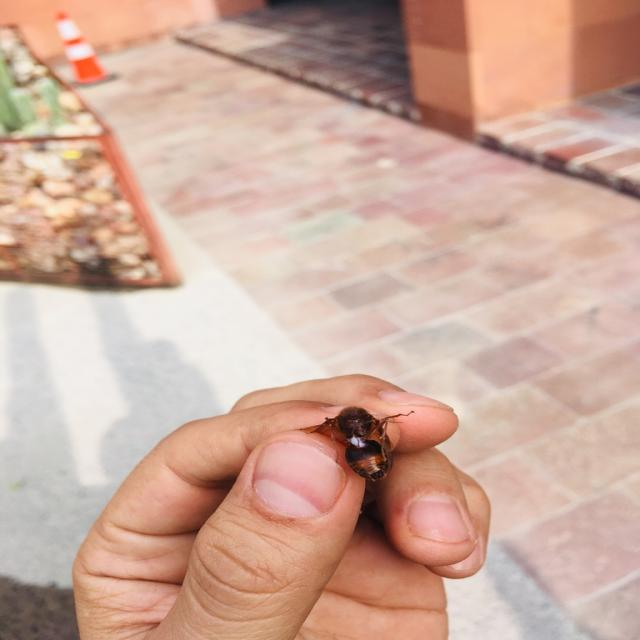Alive-Male-Alate: (294, 406, 416, 482)
